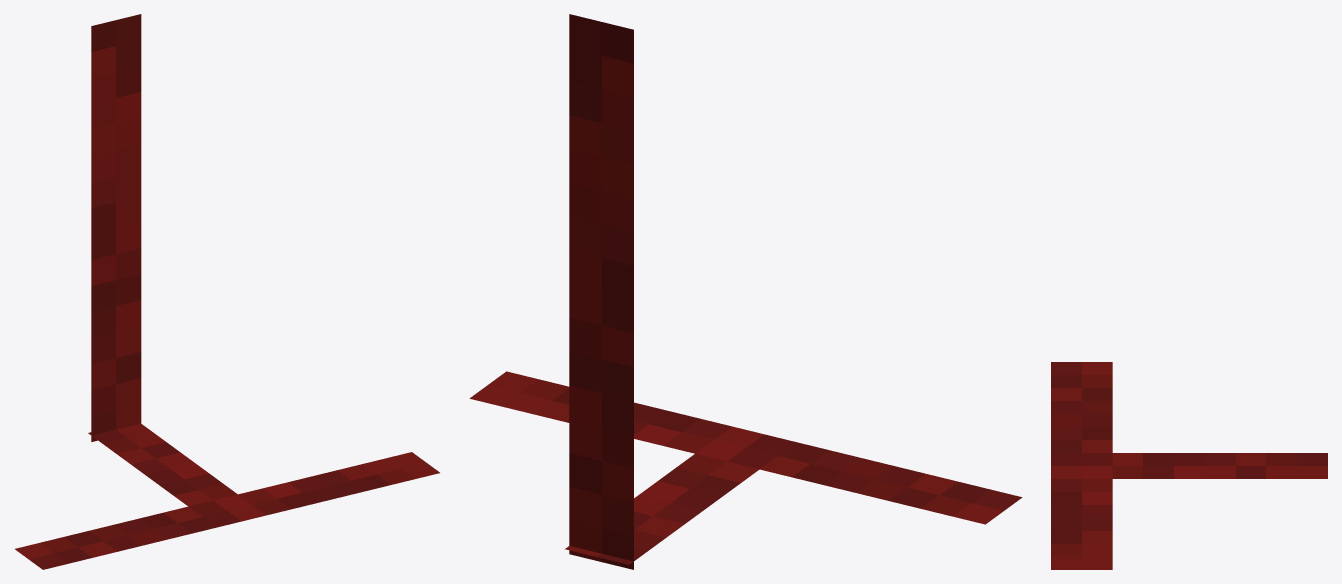
Rendered from dust_1102.gltf.
3 views of the same model, side by side, from view 1: azimuth 30°, elevation 25°; view 2: azimuth 150°, elevation 25°; view 3: azimuth 270°, elevation 25° (orthographic). The views are drawn at different scales.
Visible parts, largest first — view 1: dust_1102; view 2: dust_1102; view 3: dust_1102.
Part boxes in pixels (left/top/right/bottom): dust_1102: left=15, top=14, right=439, bottom=569; dust_1102: left=469, top=14, right=1022, bottom=569; dust_1102: left=1051, top=362, right=1327, bottom=569.
Bounding box in the file's own units: 1 × 1 × 0.5625.
1 material, 1 textured.
